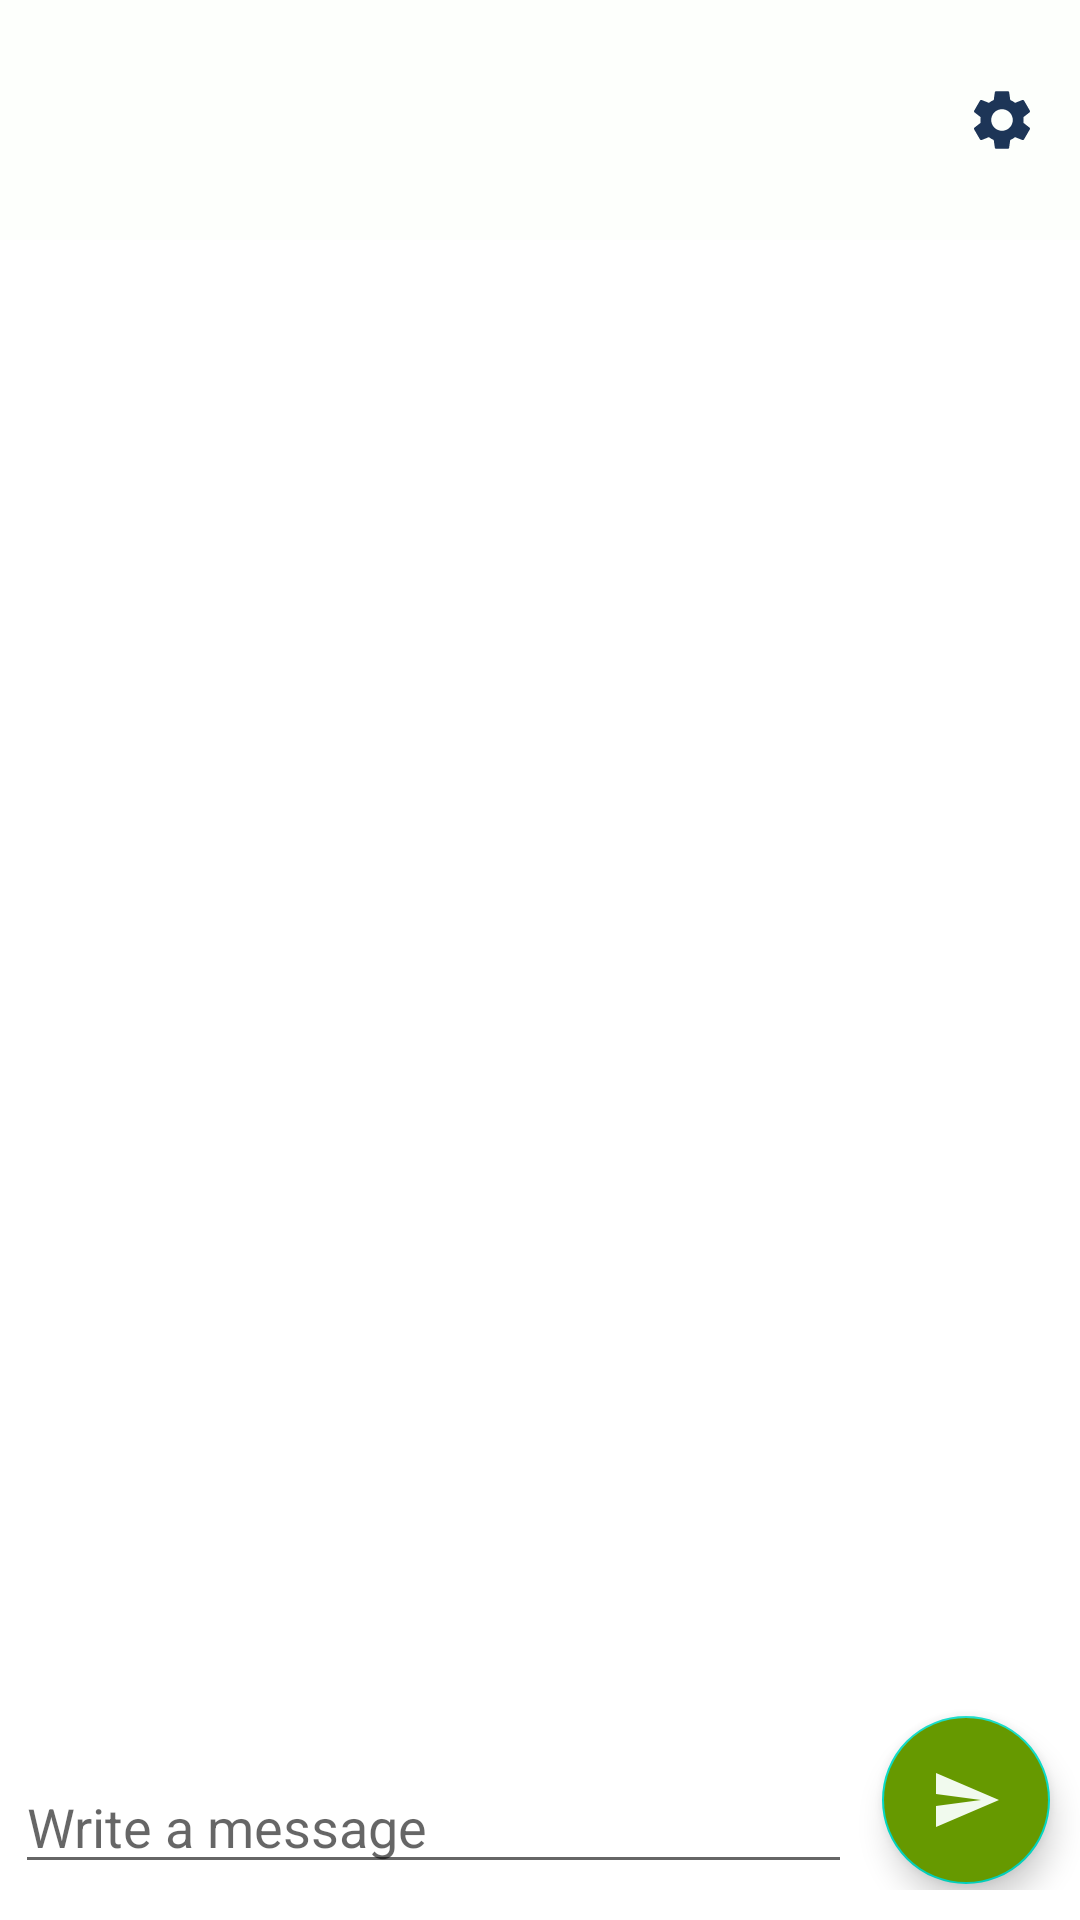

Locate icon controls on the screen. Image size 1080 × 1920, boxes as (x1, y1, x2, y2).
Send: (882, 1716, 1050, 1884)
settings: (974, 91, 1030, 149)
